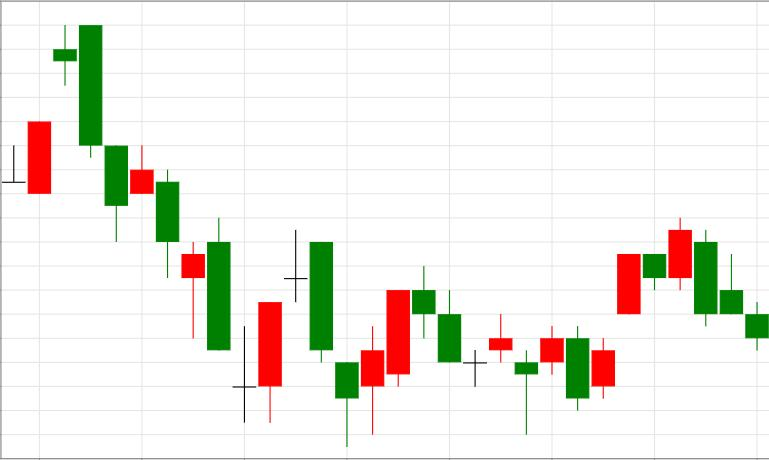morning_star_rise: (156, 168, 283, 423)
